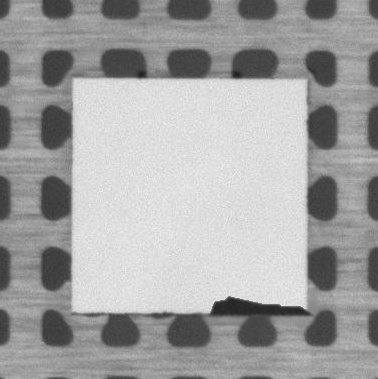DIE_BROKEN: (202, 295, 312, 319)
